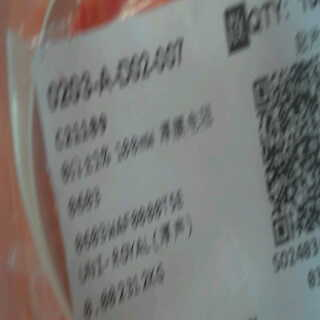0R: (59, 140, 116, 220)
